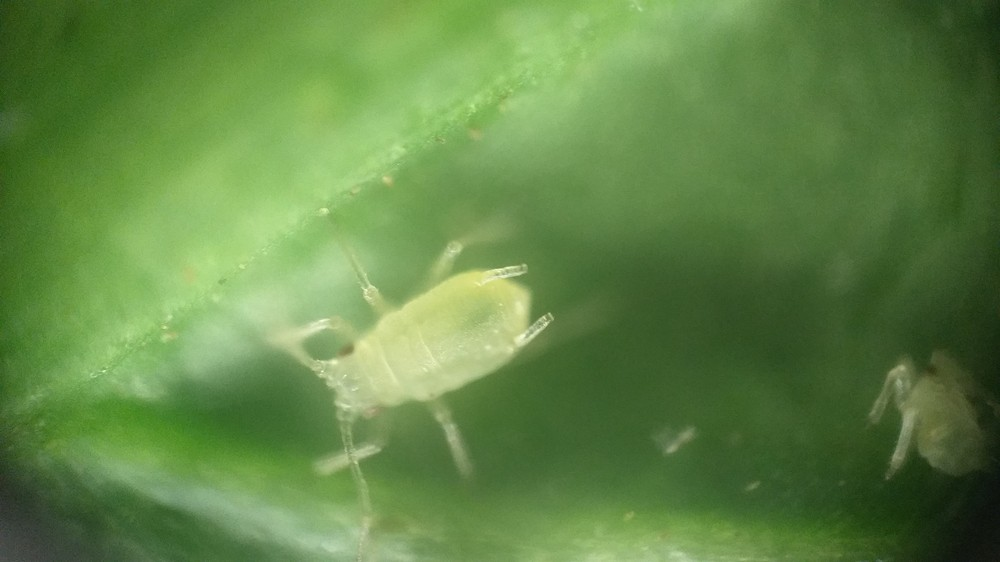Pulgon: (236, 211, 598, 495), (832, 316, 1000, 498)
